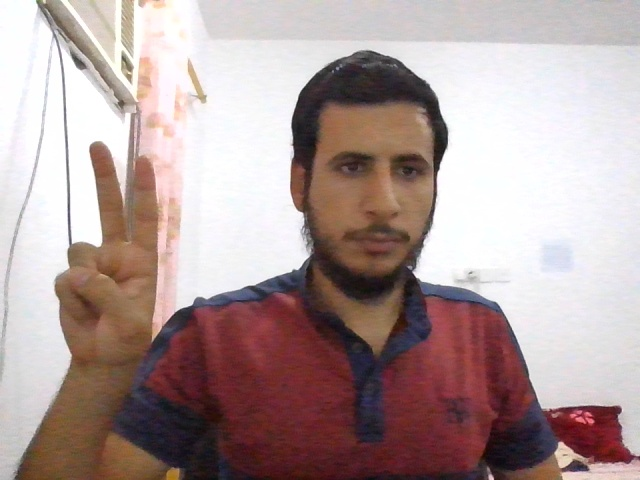Two: (55, 142, 158, 363)
